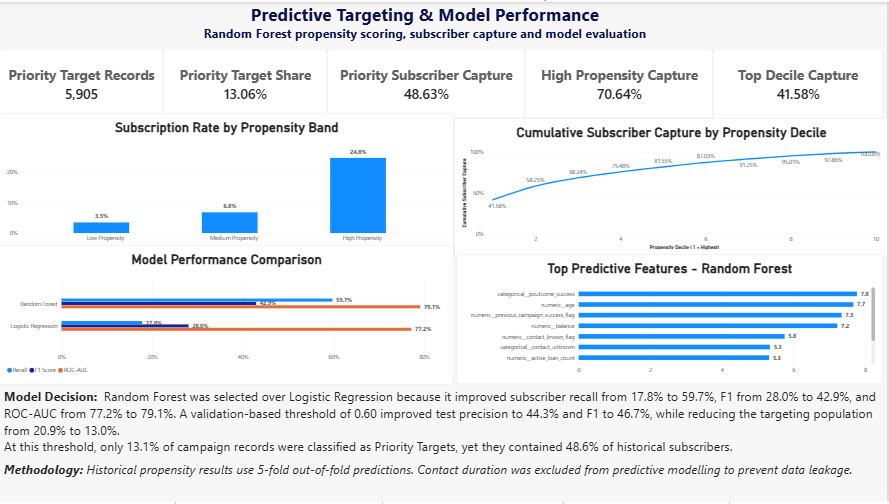

The page's visual inventory and layout, read from the dashboard file:
{"tool":"powerbi","page":{"name":"04 Predictive Targeting","canvas":[1920,1080],"ordinal":3},"visuals":[{"type":"textbox","box":[11.5,0,1818.8,101.2],"z":0},{"type":"cardVisual","fields":{"Data":["_Measures.Priority Target Records"]},"box":[0,101.2,354.1,149.5],"z":1},{"type":"cardVisual","fields":{"Data":["_Measures.Priority Target Share"]},"box":[354.1,101.2,354,150],"z":2},{"type":"cardVisual","fields":{"Data":["_Measures.Priority Subscriber Capture"]},"box":[708.2,101.2,427.7,149.5],"z":3},{"type":"cardVisual","fields":{"Data":["_Measures.High Propensity Subscriber Capture"]},"box":[1135.9,101.2,407,149.5],"z":4},{"type":"cardVisual","fields":{"Data":["_Measures.Top Decile Subscriber Capture"]},"box":[1542.9,101.2,366,150],"z":5},{"type":"clusteredColumnChart","title":"Subscription Rate by Propensity Band","fields":{"Category":["Campaign_Data.propensity_band"],"Y":["_Measures.Subscription Rate"]},"box":[0,239.1,981.8,301.2],"z":6},{"type":"lineChart","title":"Cumulative Subscriber Capture by Propensity Decile","fields":{"Category":["Campaign_Data.propensity_decile"],"Y":["_Measures.Cumulative Subscriber Capture"]},"box":[981.8,250.6,938.2,301.2],"z":7},{"type":"clusteredBarChart","title":"Model Performance Comparison","fields":{"Category":["Model_Comparison.model"],"Y":["Sum(Model_Comparison.recall)","Sum(Model_Comparison.f1_score)","Sum(Model_Comparison.roc_auc)"]},"box":[0,524.3,981.8,301.2],"z":8},{"type":"clusteredBarChart","title":"Top Predictive Features - Random Forest","fields":{"Category":["Feature_Importance.feature"],"Y":["Sum(Feature_Importance.importance_pct)"]},"box":[986.4,545,922.1,280.5],"z":9},{"type":"textbox","box":[10.8,833.8,1898.6,157.7],"z":10},{"type":"textbox","box":[10.8,991.4,1898.6,86.4],"z":11}]}

Visuals, with their boxes in screenshot pixels (x1, y1, x2, y2), scaled from the page's 1920x1080 canvas onto the 889x504 screenshot:
textbox: [left=5, top=0, right=847, bottom=47]
cardVisual - _Measures.Priority Target Records: [left=0, top=47, right=164, bottom=117]
cardVisual - _Measures.Priority Target Share: [left=164, top=47, right=328, bottom=117]
cardVisual - _Measures.Priority Subscriber Capture: [left=328, top=47, right=526, bottom=117]
cardVisual - _Measures.High Propensity Subscriber Capture: [left=526, top=47, right=714, bottom=117]
cardVisual - _Measures.Top Decile Subscriber Capture: [left=714, top=47, right=884, bottom=117]
"Subscription Rate by Propensity Band" clusteredColumnChart: [left=0, top=112, right=455, bottom=252]
"Cumulative Subscriber Capture by Propensity Decile" lineChart: [left=455, top=117, right=888, bottom=258]
"Model Performance Comparison" clusteredBarChart: [left=0, top=245, right=455, bottom=385]
"Top Predictive Features - Random Forest" clusteredBarChart: [left=457, top=254, right=884, bottom=385]
textbox: [left=5, top=389, right=884, bottom=463]
textbox: [left=5, top=463, right=884, bottom=503]
